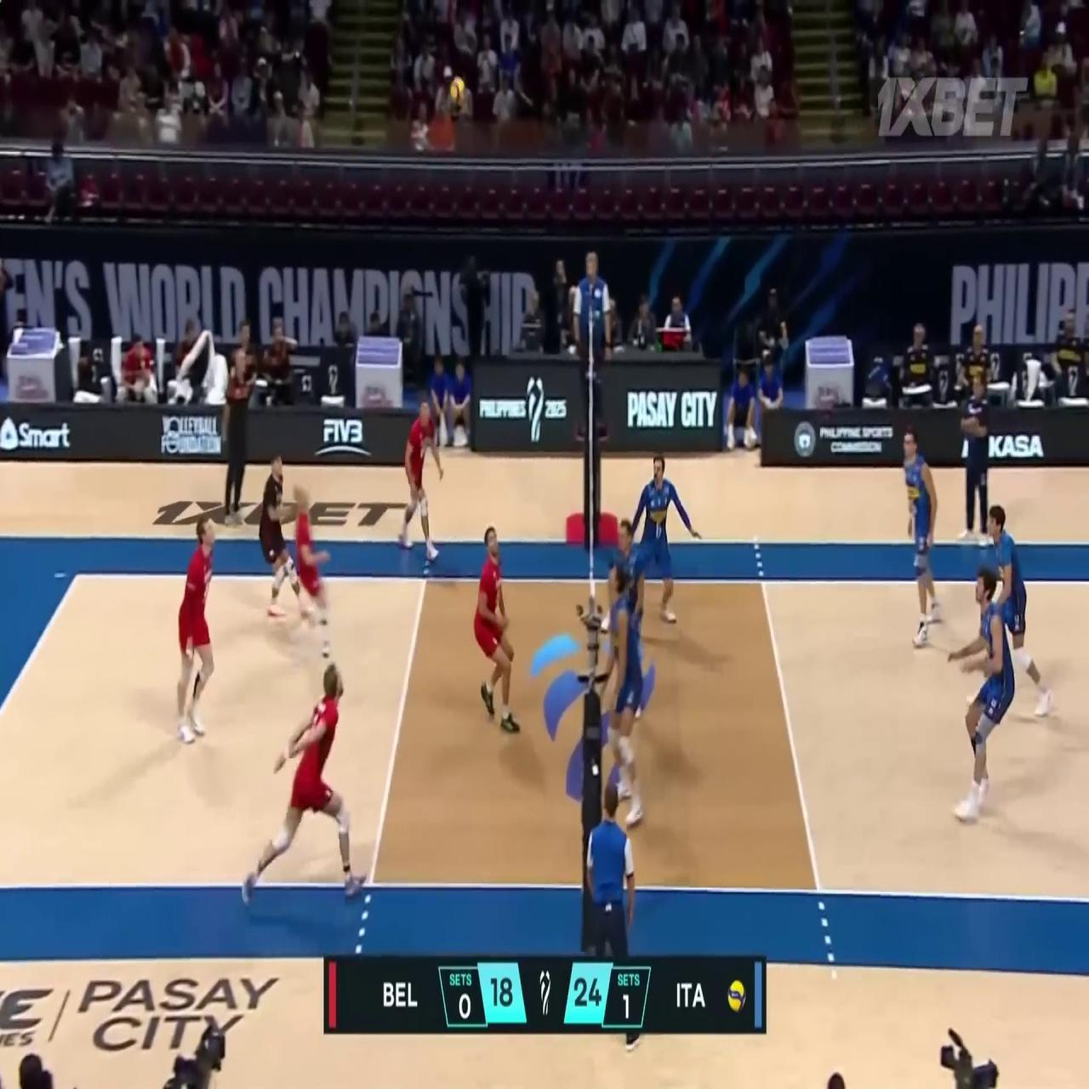ball: (450, 77, 466, 104)
